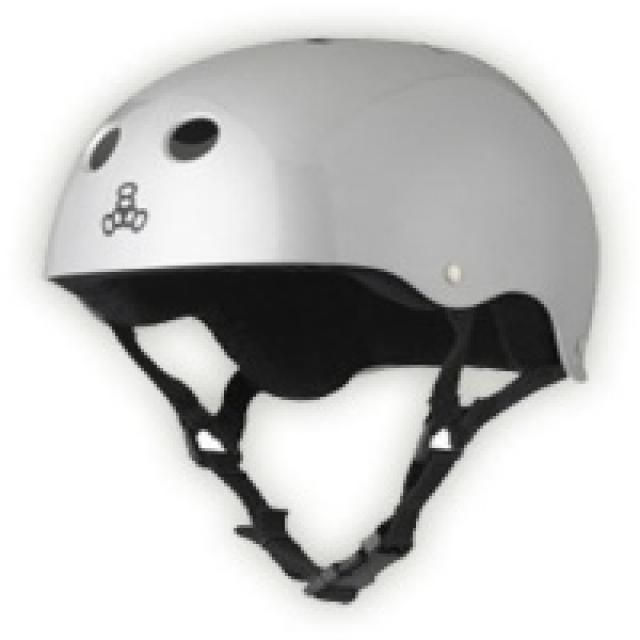Helmet: (46, 39, 598, 602)
